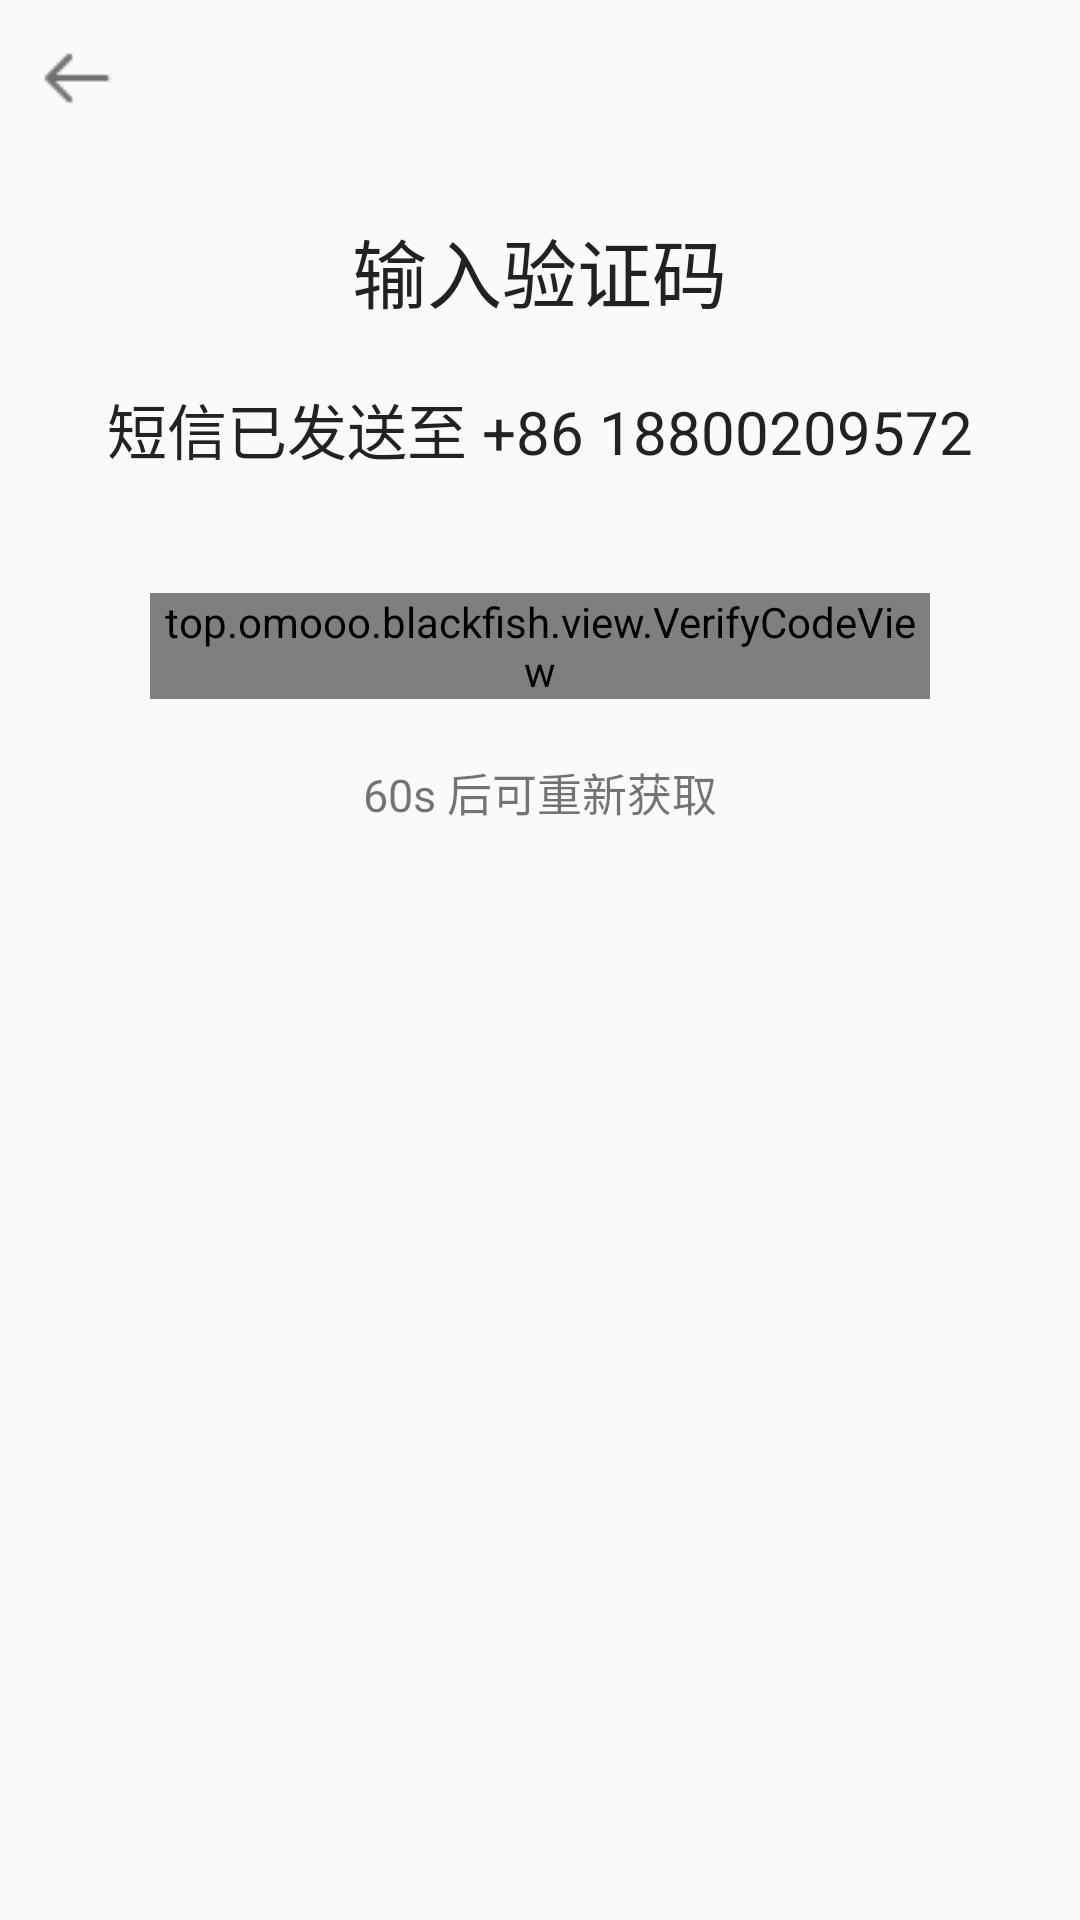

Screen size 1080w x 1920h. Icon name, then its box in pixels as (x1, y1, x2, y2):
back: (44, 53, 110, 103)
